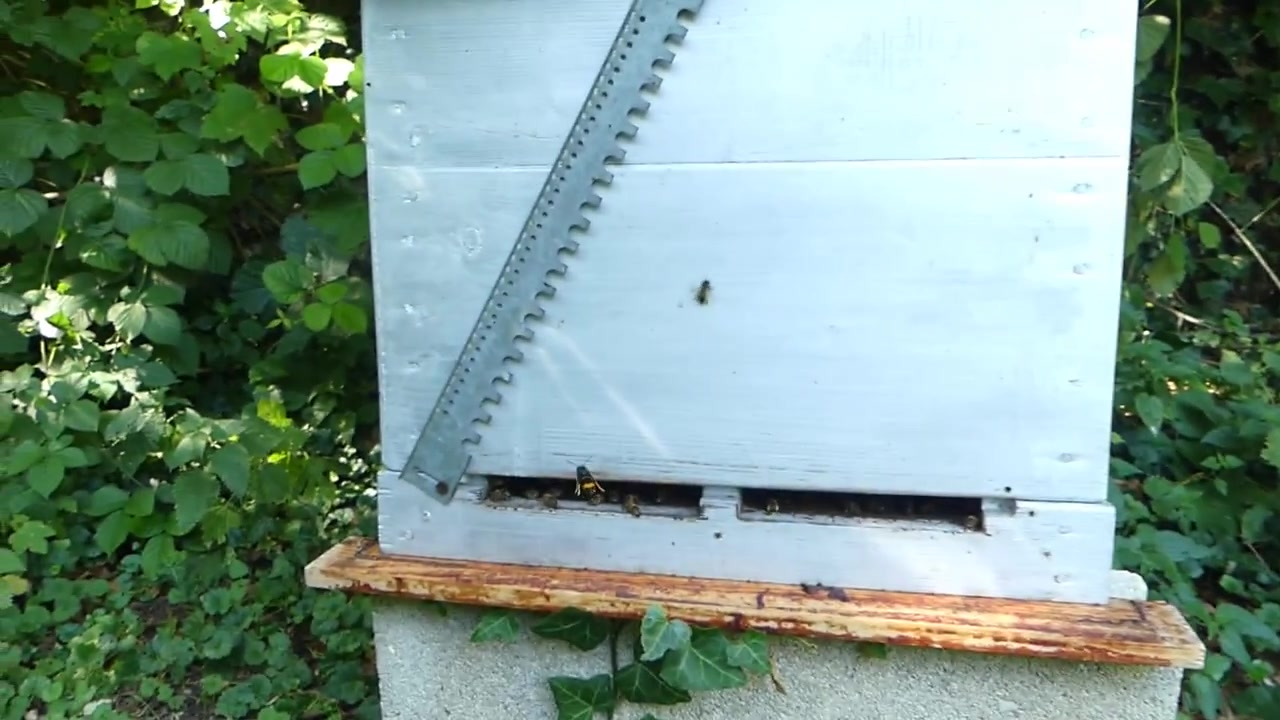bee: (696, 280, 714, 306)
hornet: (569, 456, 608, 507)
